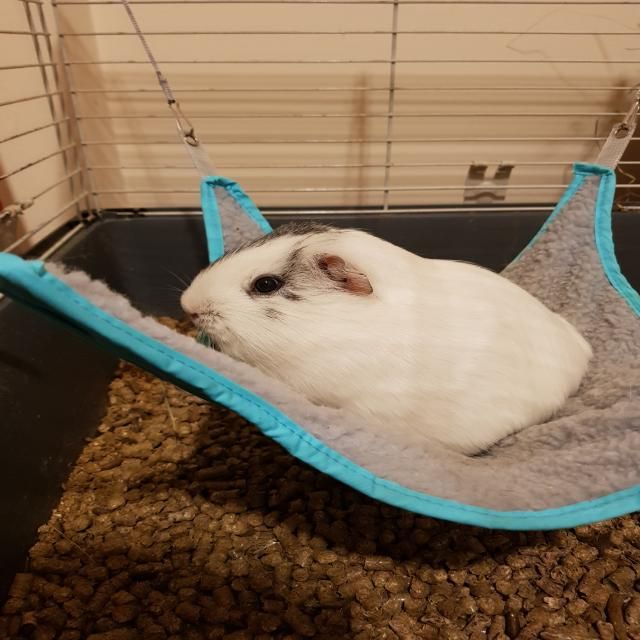guinea pig: (175, 220, 596, 460)
